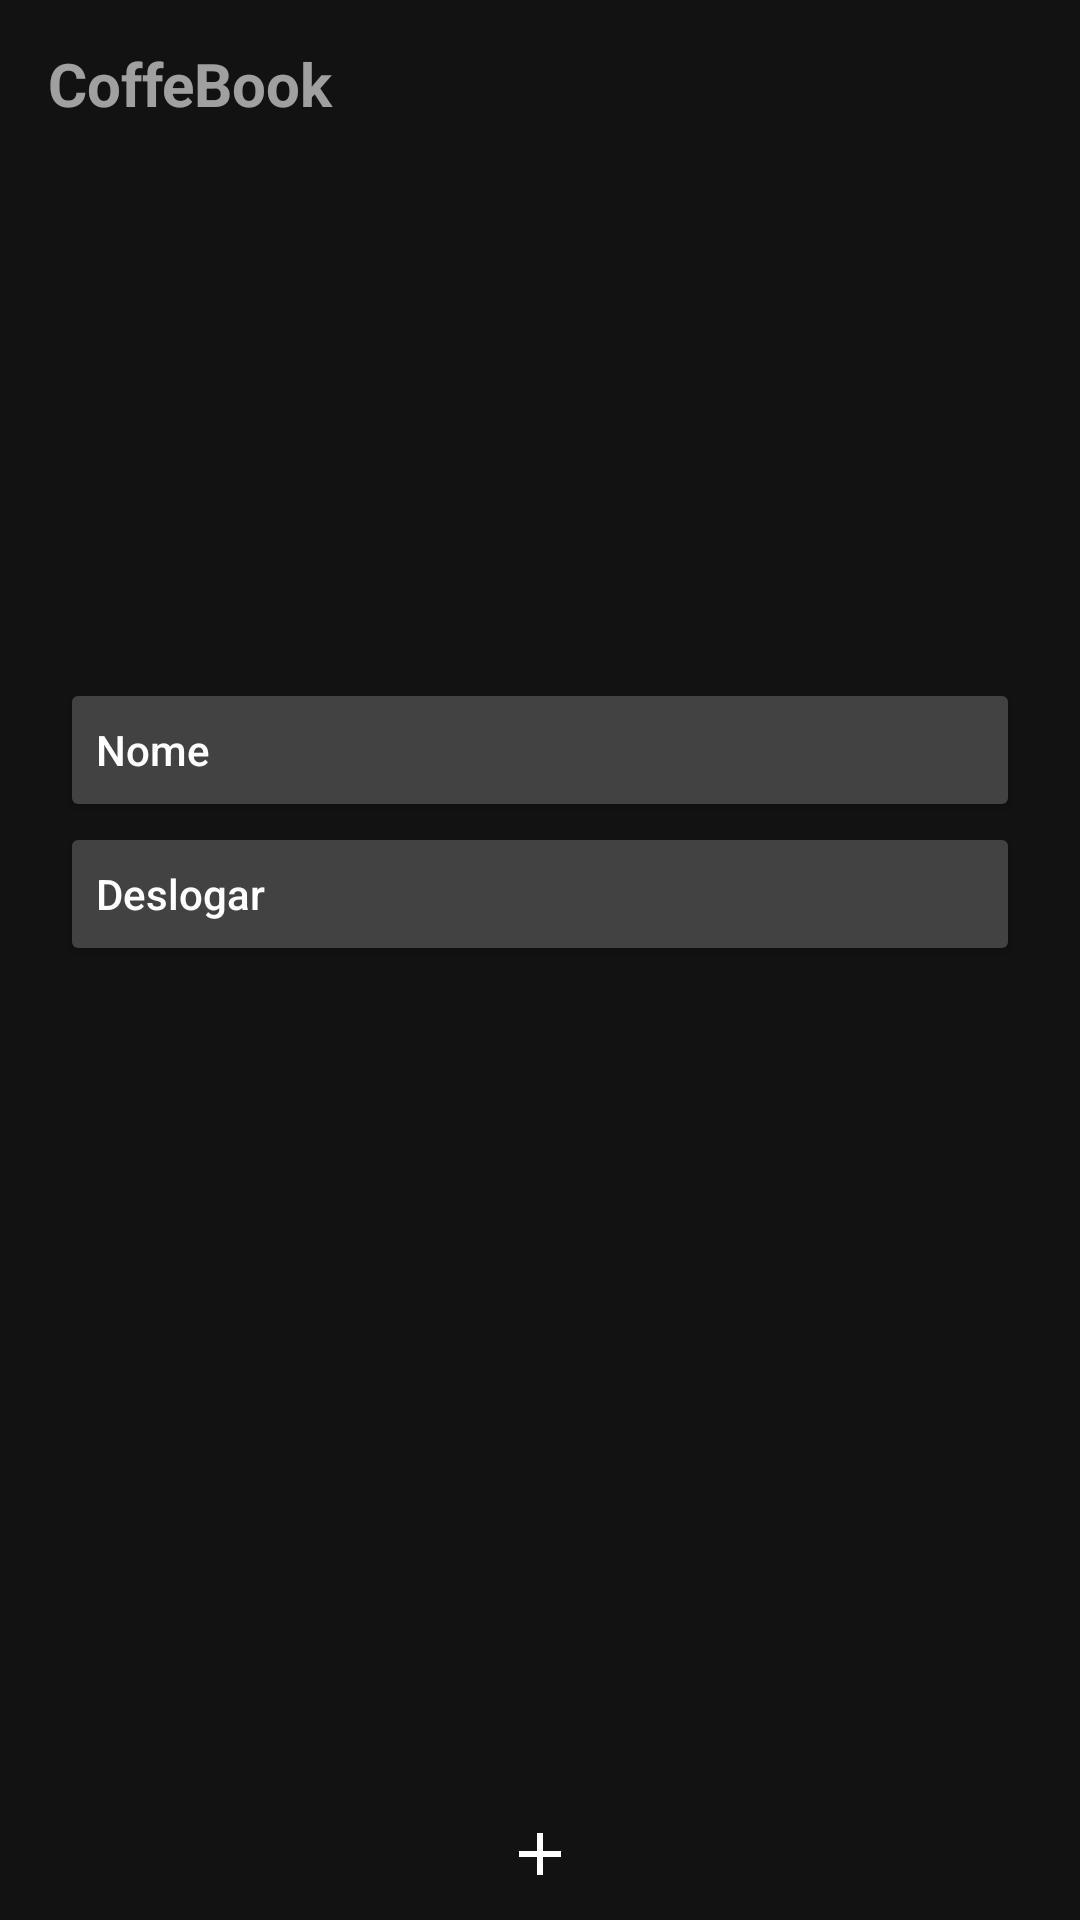

Point at icon controls on the screen. Image size 1080 x 1920, points as (x=x, y=y).
add: (x=540, y=1854)
